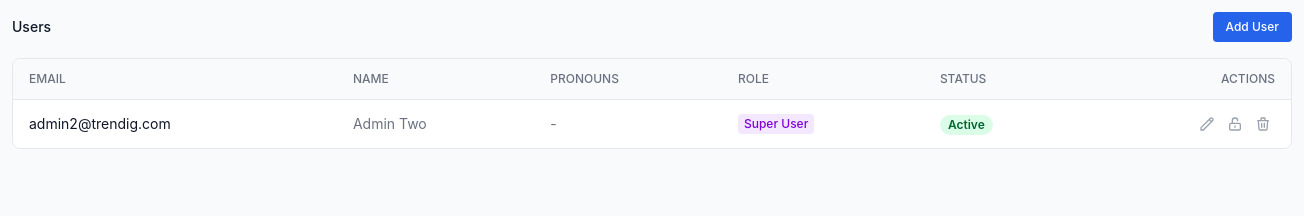
admin Tenants UsersTab — unlock › shows the no-attempts toast when the account was not locked
expect the text "admin2@trendig.com" is shown: met, box 13,100 -> 337,148
What coordinates should you click on to do the following:
click the button titled "Reset failed-login counter"
I would click on:
 (1235, 124)
Its box is 1223,112 -> 1247,136.
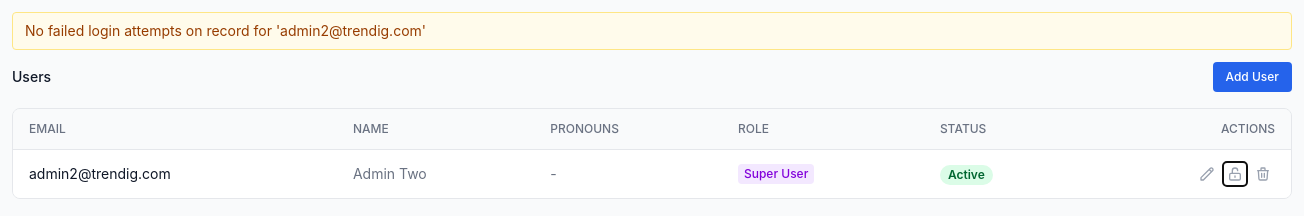
expect the text "No failed login attempts on record for 'admin2@trendig.com'" is shown: met, box 12,12 -> 1292,50
